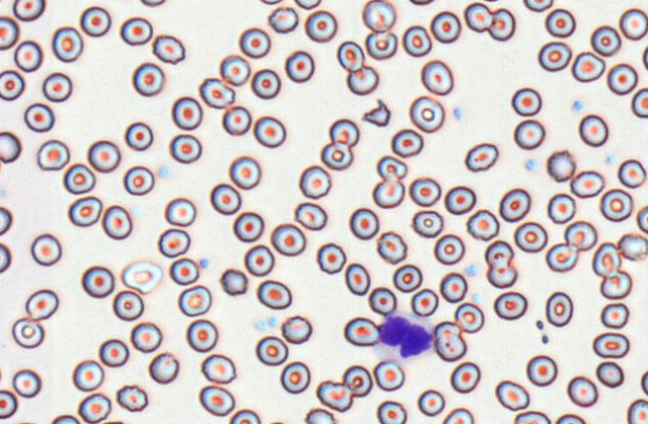GRAN: (371, 311, 438, 361)
PLT: (156, 163, 174, 179), (524, 157, 540, 175), (571, 97, 587, 114), (464, 264, 481, 278), (604, 152, 621, 166), (452, 107, 466, 122), (471, 290, 484, 305), (200, 256, 212, 270)
RBC: (484, 240, 517, 288), (120, 260, 162, 294), (432, 321, 466, 361), (409, 95, 444, 132), (315, 379, 353, 412), (270, 222, 306, 256), (420, 59, 453, 95), (599, 188, 633, 222), (298, 164, 331, 199), (198, 384, 234, 416), (51, 26, 83, 62), (465, 208, 499, 241), (228, 155, 261, 189), (494, 379, 529, 411), (361, 0, 396, 32), (498, 187, 530, 222), (200, 353, 236, 384), (199, 77, 235, 108), (253, 115, 286, 148), (304, 9, 337, 42), (87, 139, 120, 172), (81, 265, 114, 298), (171, 96, 203, 130), (177, 284, 211, 316), (186, 318, 218, 352), (132, 62, 164, 96), (67, 195, 102, 226), (101, 204, 132, 239), (343, 316, 379, 346), (256, 279, 292, 309), (62, 162, 95, 194), (25, 288, 58, 320), (376, 230, 407, 264), (279, 360, 310, 394), (513, 221, 547, 252), (77, 392, 111, 423), (571, 51, 605, 82), (30, 232, 61, 266), (537, 41, 572, 71), (592, 241, 621, 277), (433, 233, 465, 265), (566, 375, 598, 407), (72, 359, 104, 391), (209, 183, 241, 215), (112, 289, 144, 321), (346, 64, 379, 95), (564, 220, 597, 251), (255, 335, 288, 366), (11, 317, 44, 348), (430, 10, 461, 43), (36, 139, 69, 170), (151, 34, 185, 64), (578, 113, 608, 147), (464, 142, 498, 172), (545, 291, 573, 327), (592, 331, 629, 358), (526, 354, 557, 386), (148, 352, 179, 384), (232, 211, 264, 242), (219, 54, 250, 86), (130, 321, 162, 352), (238, 27, 270, 58), (590, 24, 621, 56), (79, 6, 111, 37), (599, 269, 632, 299), (342, 364, 372, 397), (545, 242, 578, 272), (546, 149, 576, 182), (349, 207, 379, 240), (408, 176, 441, 206), (157, 227, 190, 257), (284, 49, 314, 82), (402, 24, 432, 57), (607, 62, 637, 95), (169, 133, 202, 163), (293, 201, 327, 230), (493, 291, 527, 320), (570, 169, 604, 198), (373, 360, 404, 391), (454, 301, 484, 333), (450, 361, 480, 393), (316, 242, 346, 274), (244, 244, 274, 276), (513, 119, 545, 149), (372, 179, 405, 208), (390, 128, 423, 157), (13, 39, 42, 72), (119, 16, 152, 45), (619, 7, 648, 40), (487, 7, 515, 41), (281, 314, 312, 344), (250, 68, 280, 99), (23, 102, 54, 132), (544, 8, 575, 38), (123, 165, 154, 195), (336, 40, 365, 72), (365, 31, 397, 60), (444, 185, 476, 214), (164, 197, 196, 226), (320, 142, 353, 170), (410, 209, 443, 237), (115, 384, 148, 412), (463, 2, 493, 32), (221, 105, 251, 135), (42, 72, 72, 102), (617, 232, 648, 261), (547, 192, 576, 223), (439, 271, 467, 303), (392, 263, 422, 292), (367, 286, 397, 315), (617, 158, 646, 188), (124, 121, 153, 151), (99, 338, 129, 367), (511, 87, 541, 116), (344, 262, 370, 295), (12, 368, 41, 397), (329, 118, 359, 146), (169, 257, 199, 285), (410, 288, 438, 317), (219, 267, 248, 295), (595, 360, 624, 388), (268, 6, 298, 33), (376, 155, 407, 181), (0, 69, 25, 101), (600, 302, 629, 329), (417, 389, 444, 416), (376, 400, 407, 423), (0, 130, 21, 163), (12, 0, 45, 21), (0, 15, 19, 50), (626, 398, 647, 423), (304, 407, 336, 423), (441, 407, 473, 423), (0, 389, 17, 419), (631, 87, 647, 118), (513, 410, 550, 423), (228, 408, 260, 423), (522, 0, 553, 12), (636, 204, 648, 234), (0, 205, 12, 235), (0, 242, 11, 273), (554, 413, 585, 423), (51, 414, 80, 423), (293, 0, 321, 9), (139, 0, 166, 7), (640, 369, 647, 395), (642, 43, 648, 70), (408, 0, 435, 5), (99, 419, 125, 424), (258, 0, 284, 5), (11, 420, 38, 424), (265, 420, 286, 424), (0, 363, 3, 385), (481, 0, 503, 2), (111, 0, 137, 1)
Schistocyte: (361, 97, 394, 128)
